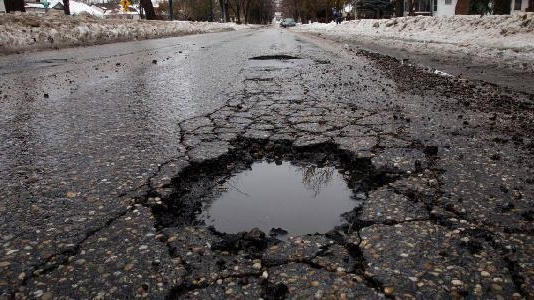pothole: (142, 131, 400, 258), (250, 52, 300, 62)
